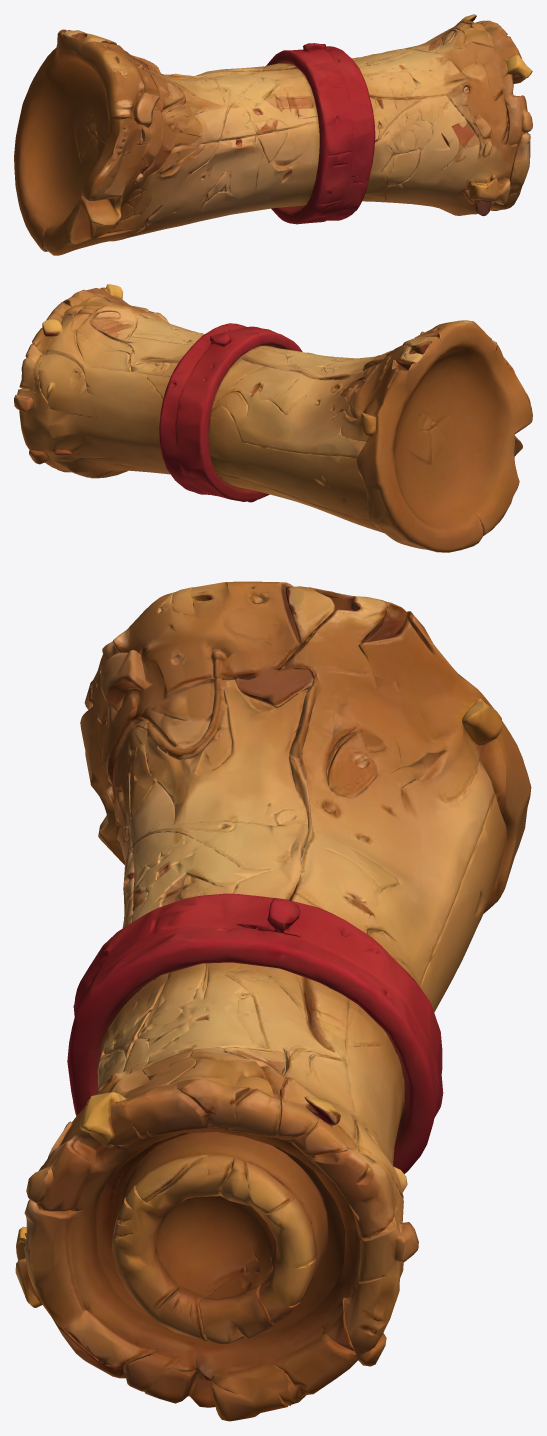
File: mapa-tesoro.glb
3 renders of one model, top to bottom at view 1: azimuth 30°, elevation 25°; view 2: azimuth 150°, elevation 25°; view 3: azimuth 270°, elevation 25°, orthographic. The views are drawn at different scales.
Size of the model in its own units: 0.9803 by 0.5026 by 0.4917.
Materials: 1 (1 with a texture image).
